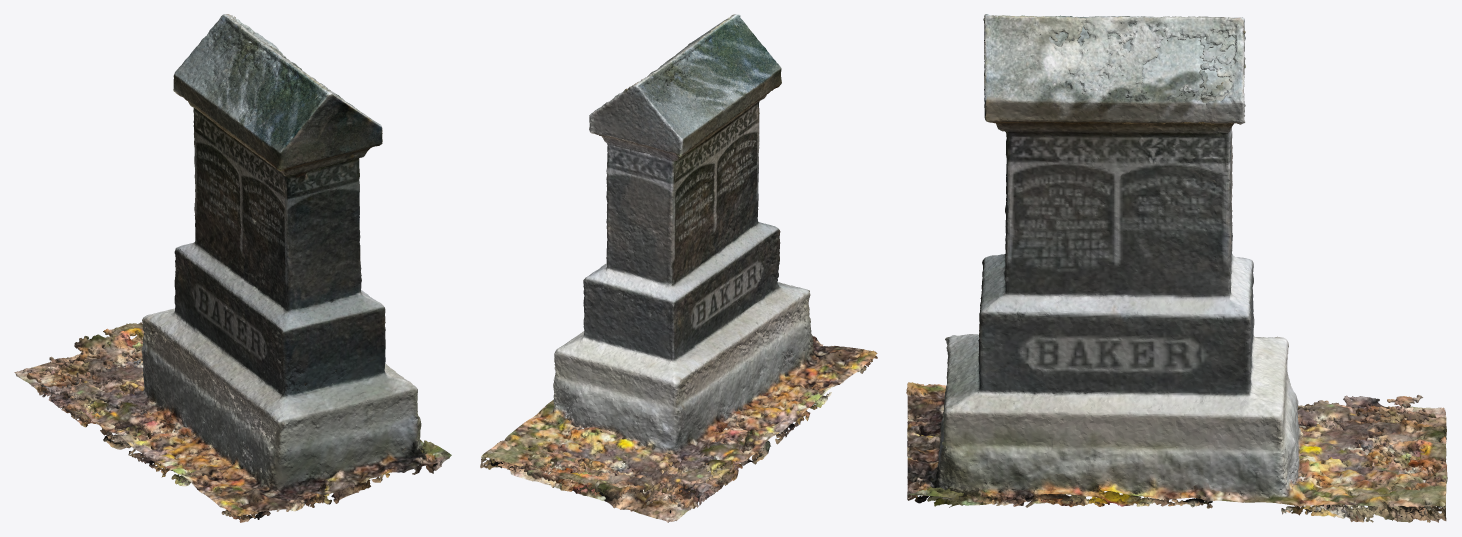
3 renders of one model, left to right at view 1: azimuth 30°, elevation 25°; view 2: azimuth 150°, elevation 25°; view 3: azimuth 270°, elevation 25°, orthographic. The views are drawn at different scales.
Bounding box in the file's own units: 1 × 1.75 × 1.83.
1 material, 1 textured.
